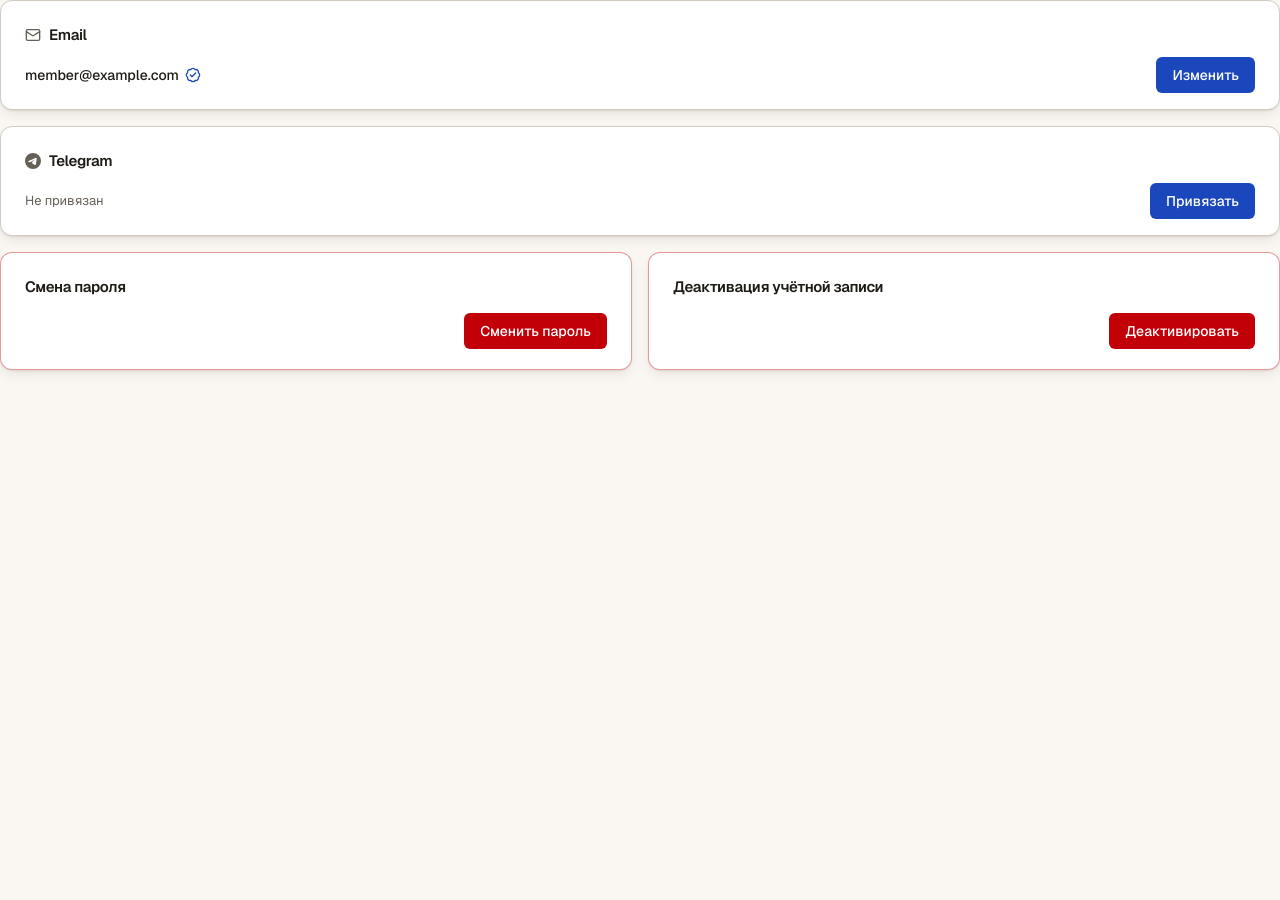
Scenario: the account danger zone pairs password change with deactivation › closes the dialog again when the form is dismissed
The image size is (1280, 900).
What coordinates should you click on to do the following:
click the button "Сменить пароль"
I would click on:
 (536, 331)
Its box is x1=464 y1=313 x2=607 y2=349.
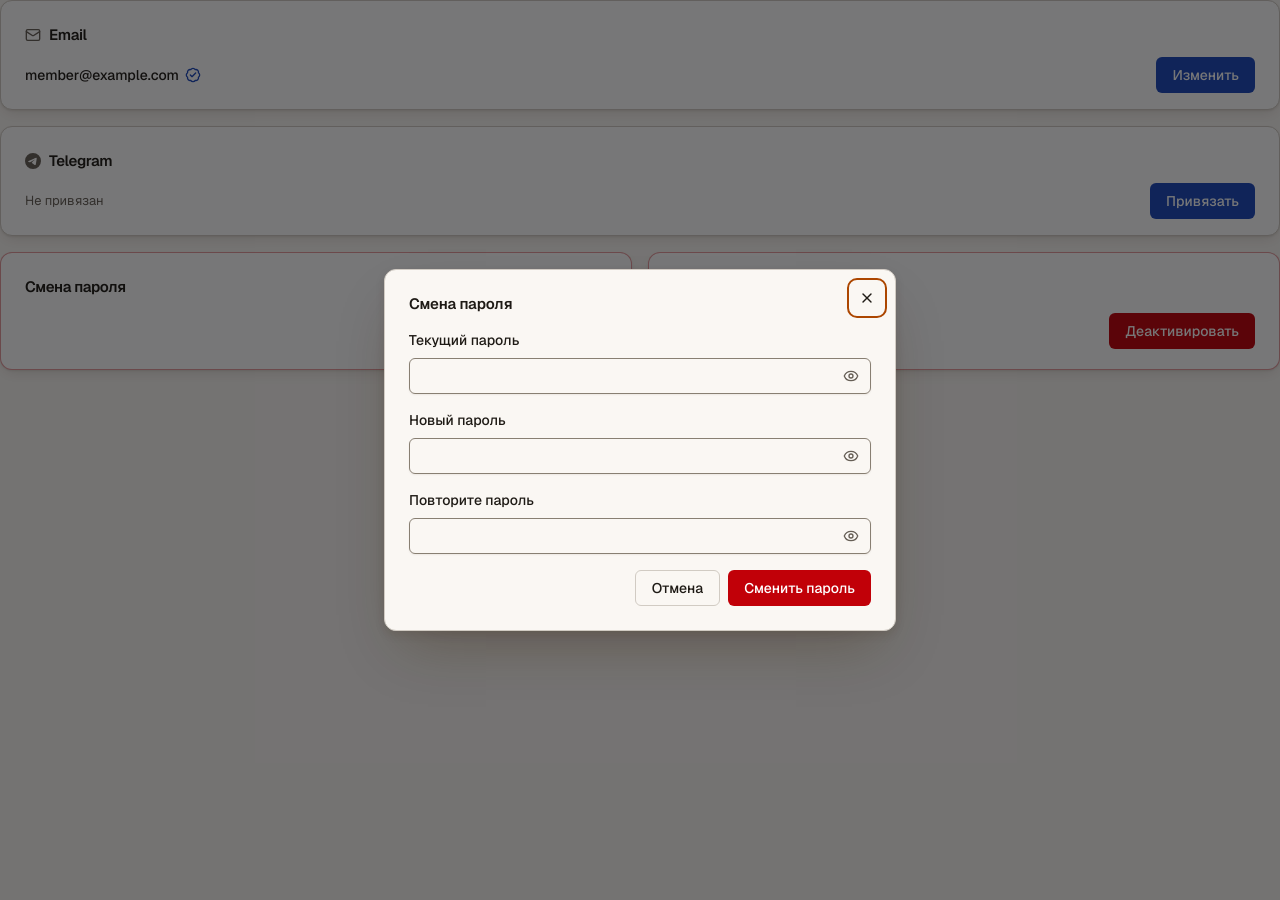
What coordinates should you click on to do the following:
click the button "Отмена"
I would click on:
 (677, 588)
Its box is x1=635 y1=570 x2=720 y2=606.
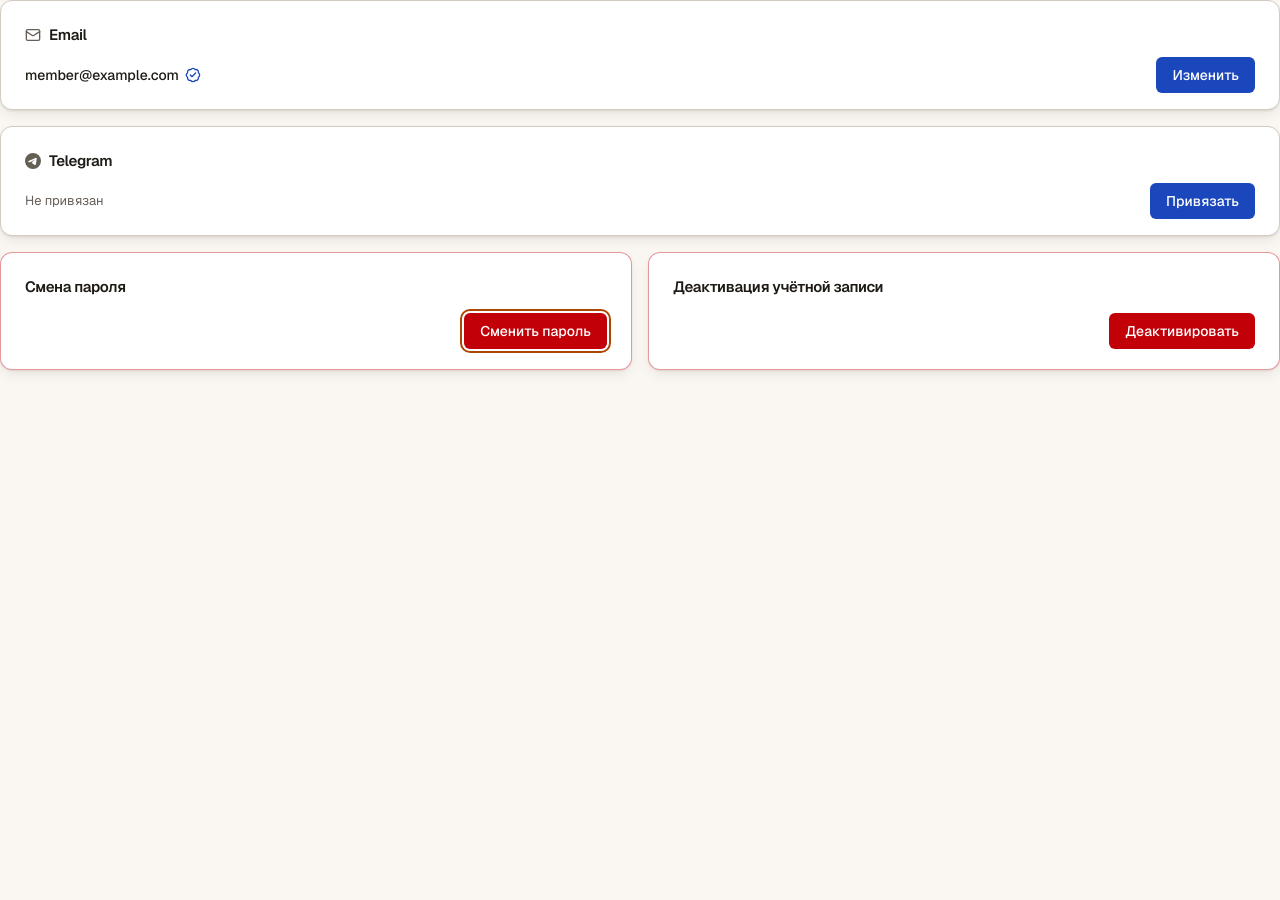
expect the dialog is gone: met
